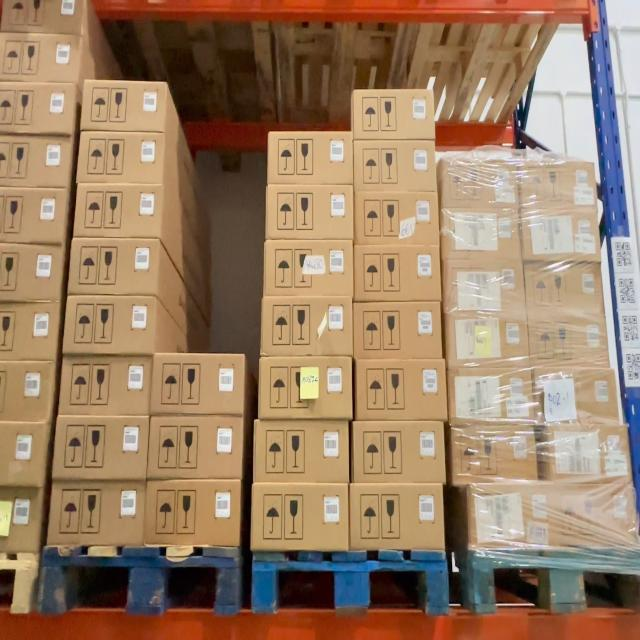box: (470, 482, 640, 547), (253, 481, 348, 553), (350, 483, 446, 553), (56, 415, 148, 483), (256, 415, 347, 483), (144, 482, 240, 546), (259, 353, 352, 415), (150, 417, 243, 479), (53, 483, 142, 545), (262, 295, 351, 354), (356, 359, 444, 418), (151, 357, 245, 412), (354, 300, 440, 360), (354, 424, 443, 481), (262, 242, 354, 294), (67, 296, 152, 352), (267, 186, 355, 240), (268, 131, 353, 186), (452, 426, 534, 483), (62, 359, 148, 413), (445, 254, 525, 312), (70, 240, 159, 292), (356, 189, 436, 246), (548, 423, 630, 478), (520, 203, 600, 259), (75, 184, 161, 235), (448, 364, 532, 416), (78, 131, 165, 181), (523, 264, 602, 318), (356, 140, 434, 193), (356, 248, 438, 298), (354, 90, 433, 139), (82, 82, 168, 126), (447, 314, 527, 361), (442, 206, 520, 251), (528, 323, 605, 367), (443, 159, 518, 203), (540, 373, 615, 416), (520, 162, 596, 204)
